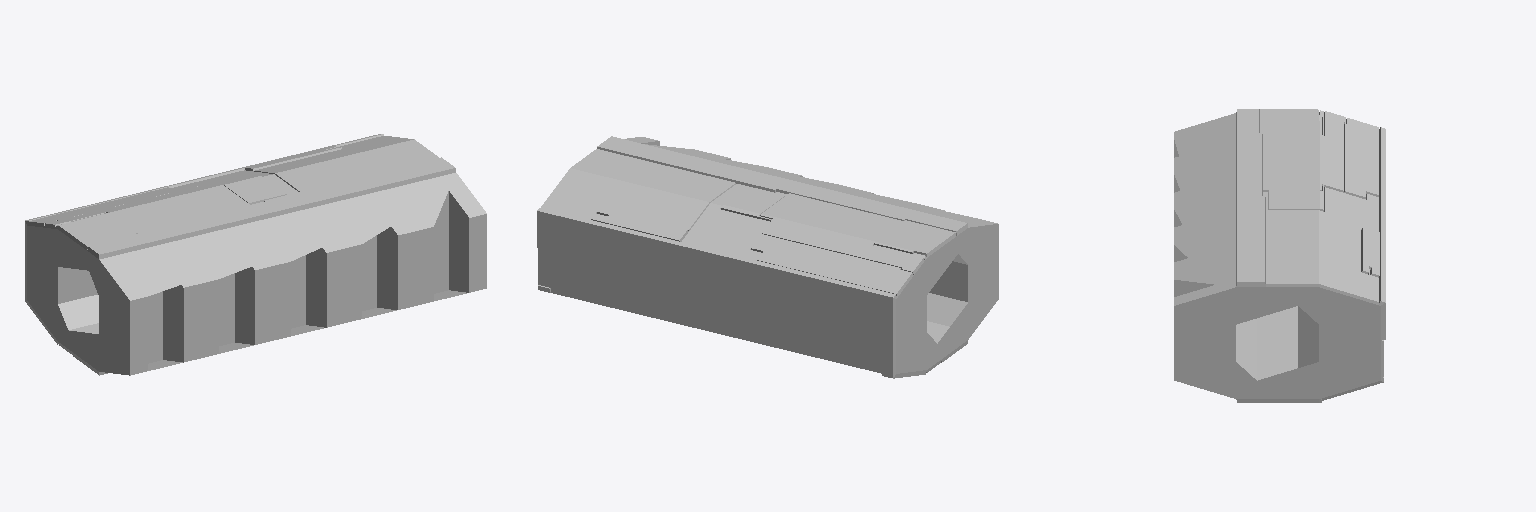
Rendered from Housingahhhhhhhhhhhhhhhhhhhhhhhhhhhhhhhhh.obj.
3 views of the same model, side by side, from view 1: azimuth 30°, elevation 25°; view 2: azimuth 150°, elevation 25°; view 3: azimuth 270°, elevation 25° (orthographic).
Visible parts, largest first — view 1: Cube, Cube_RLExtr; view 2: Cube_RLExtr, Cube; view 3: Cube, Cube_RLExtr.
Boxes of the visible parts, box(x1,y1,x2,y2) form: Cube: box(27, 173, 486, 375); Cube_RLExtr: box(25, 134, 455, 375); Cube_RLExtr: box(537, 136, 967, 378); Cube: box(625, 137, 998, 373); Cube: box(1174, 113, 1380, 398); Cube_RLExtr: box(1236, 109, 1385, 402).
Bounding box in the file's own units: 20 × 6.48 × 10.23.